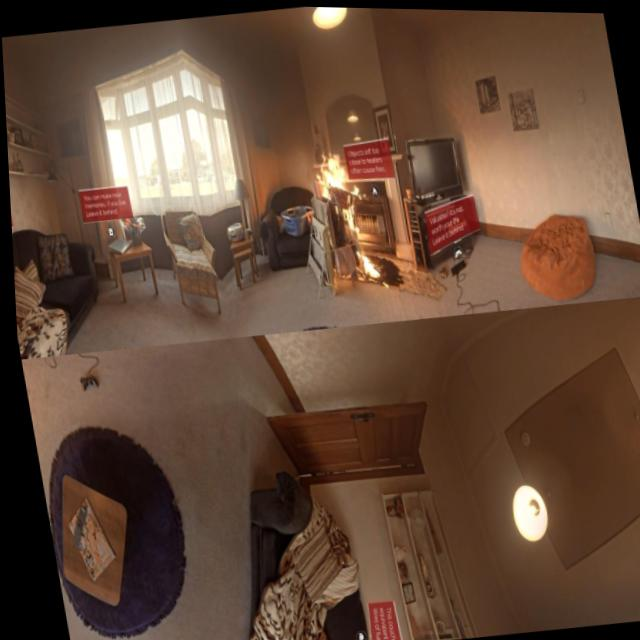fire: (309, 143, 379, 283)
